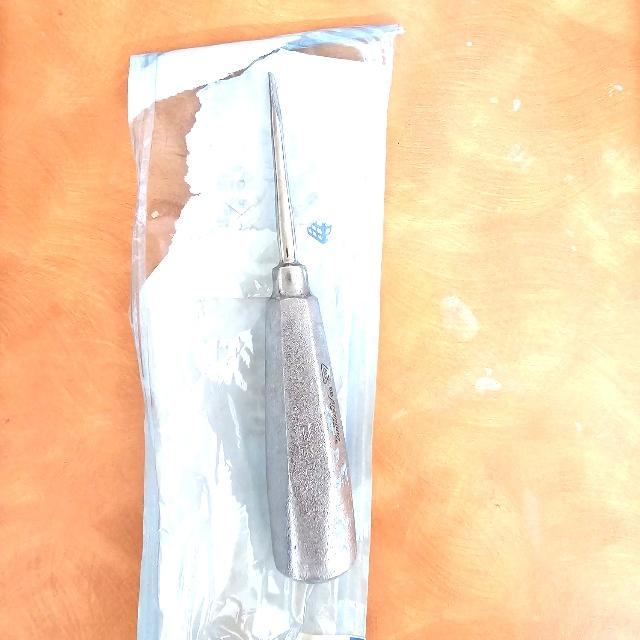botador: (265, 71, 357, 583)
